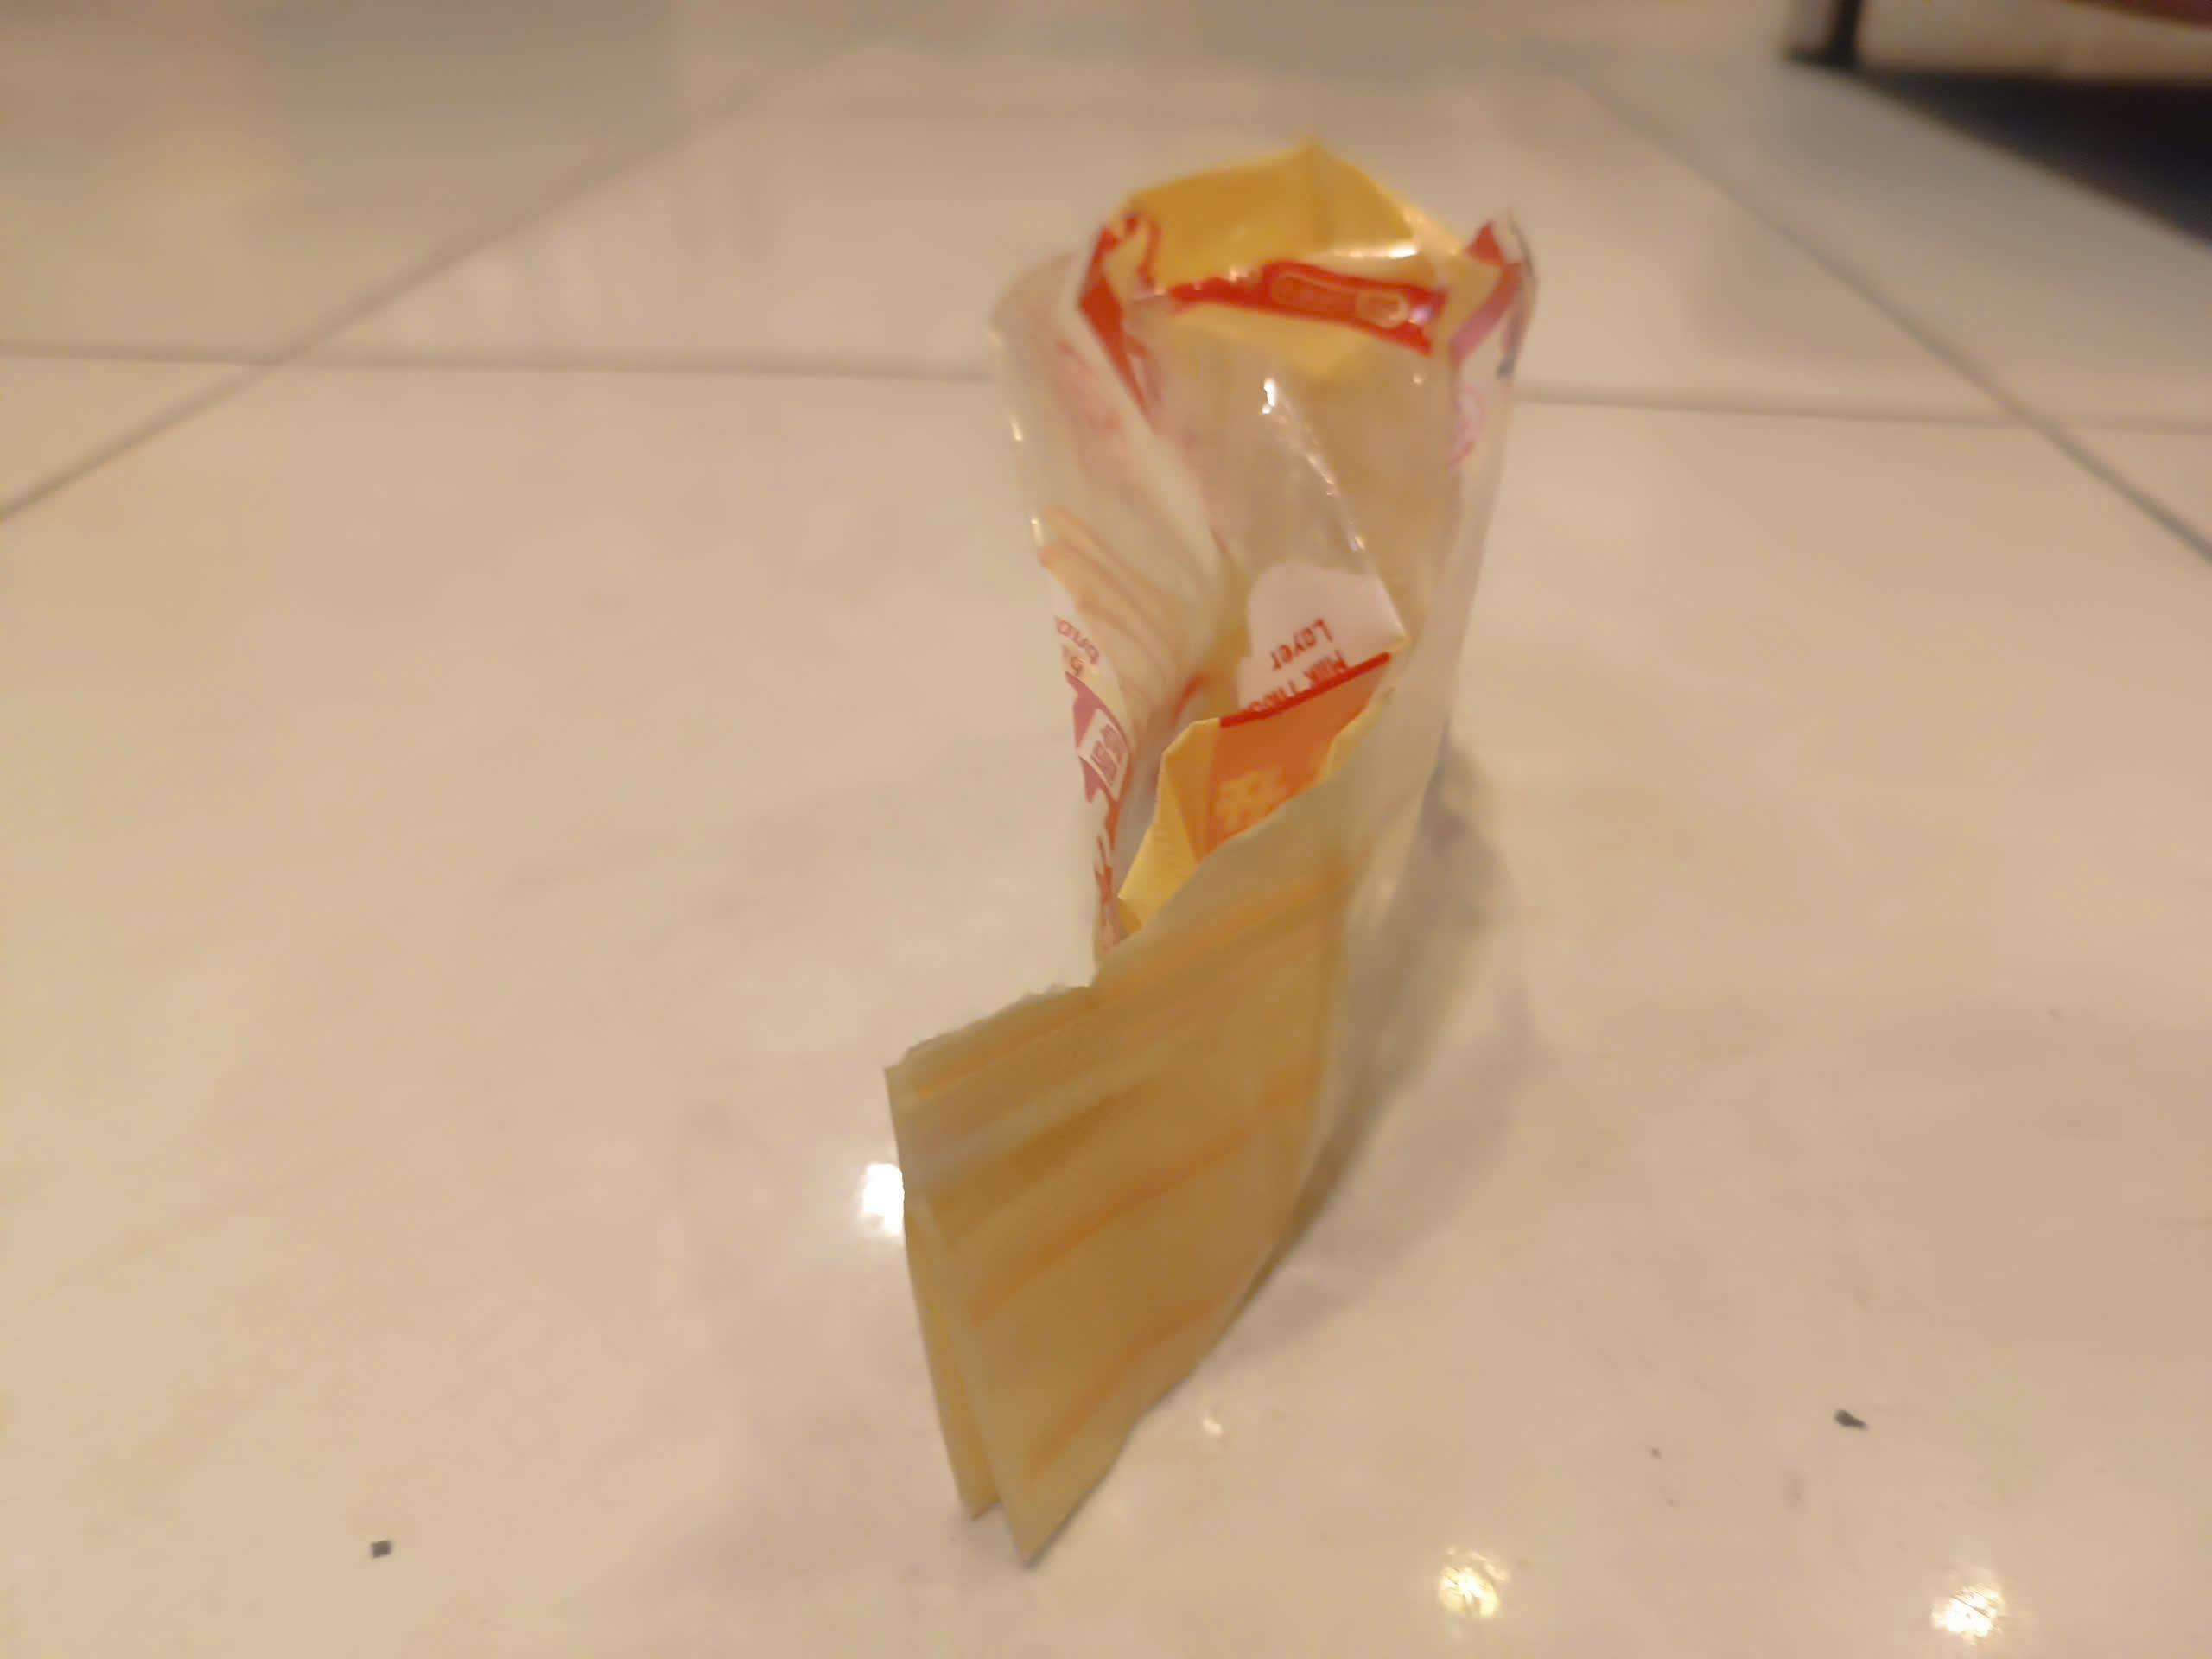Vo co: (887, 139, 1550, 1565)
